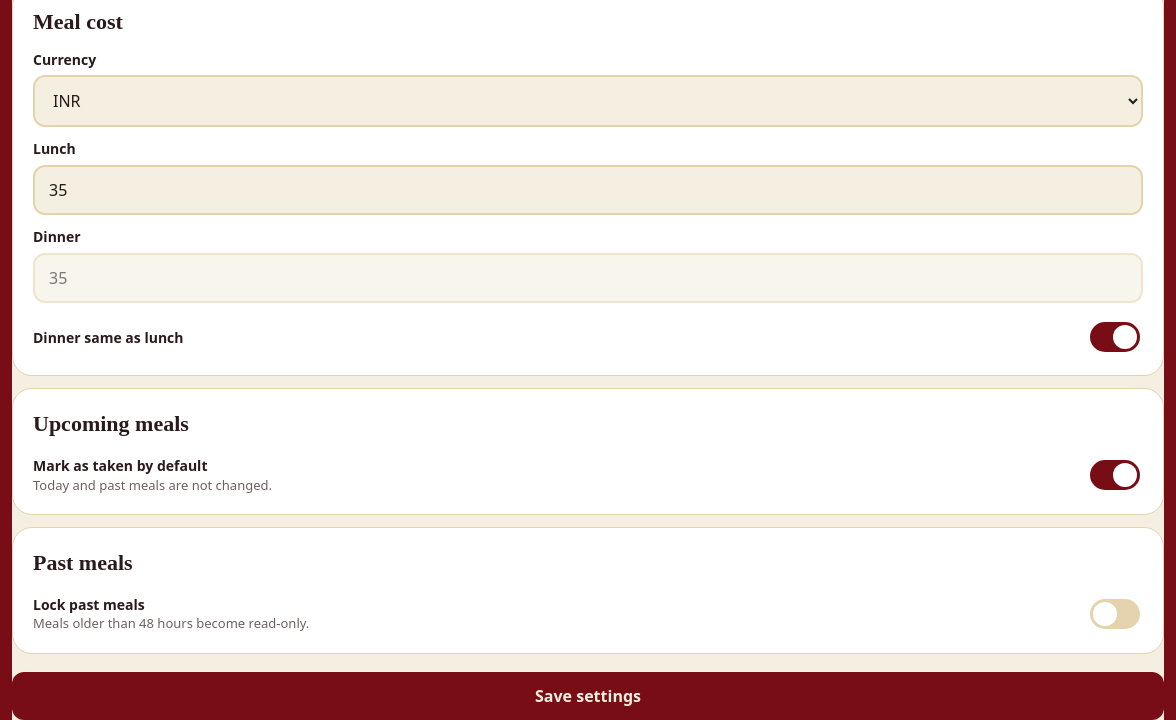
it: saving in the default state (same-as-lunch on) reaches the API with the mirrored dinner price
(page scrolled)
Step 1. Click the button "Save settings" → (588, 696), box [12, 672, 1164, 719]
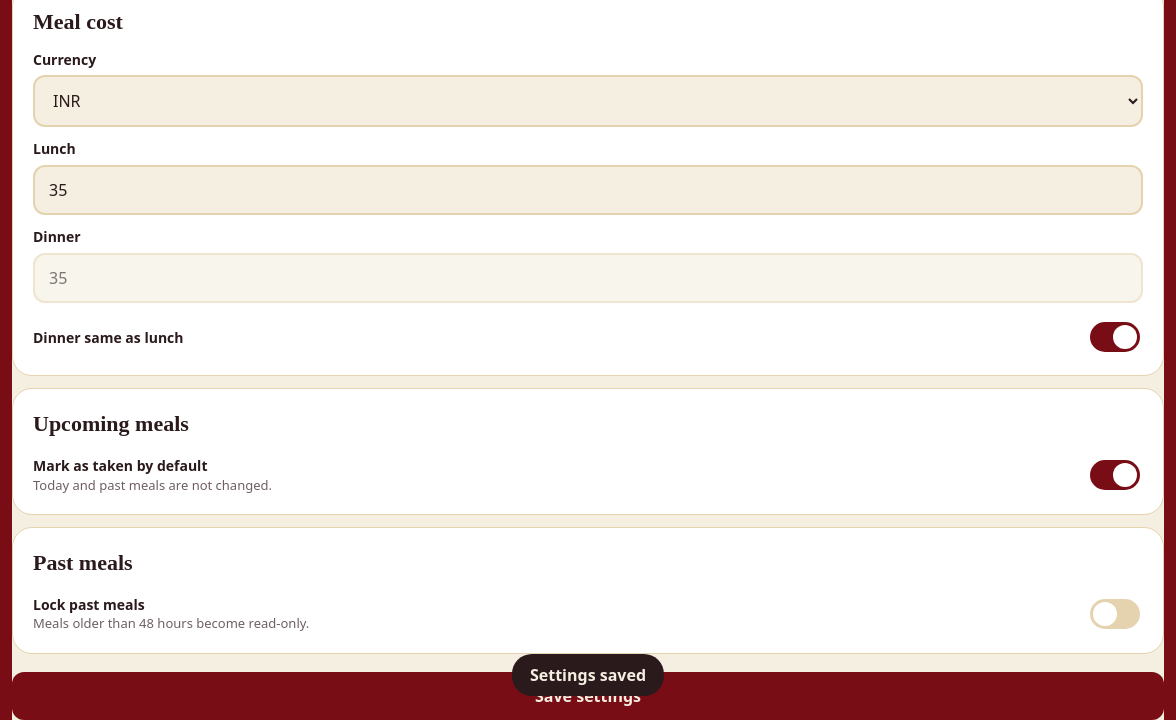
Now the text "Settings saved" is shown, box [512, 654, 664, 696]
